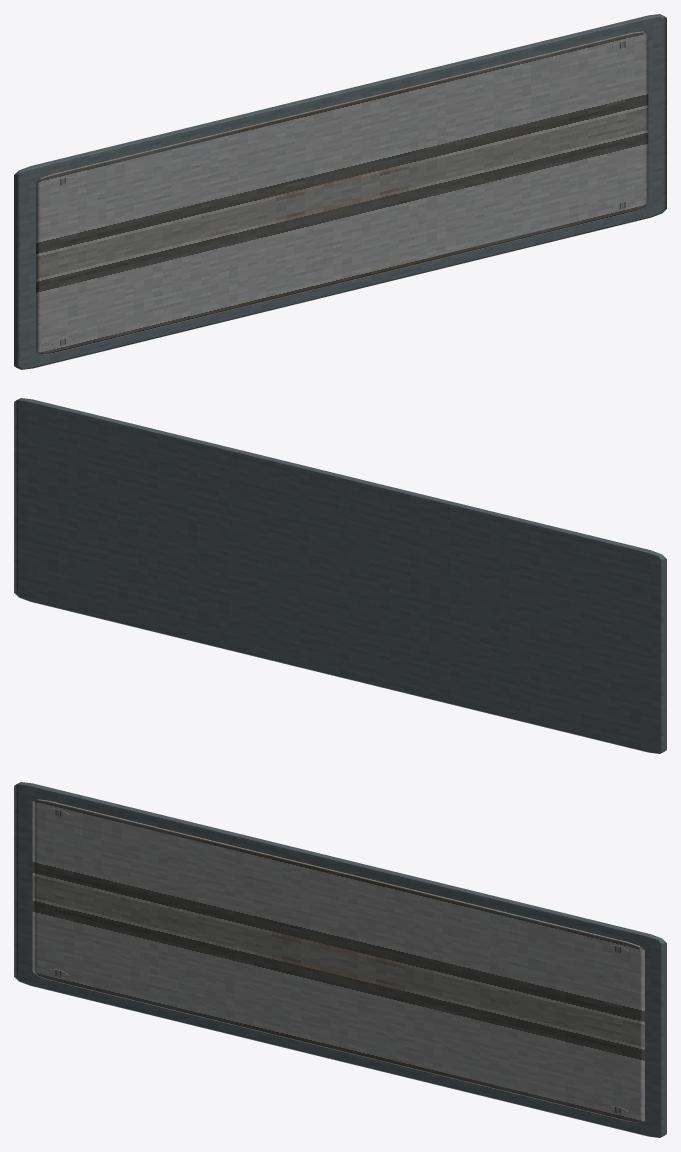
Rendered from kickplate.glb.
3 views of the same model, one above another, from view 1: azimuth 30°, elevation 25°; view 2: azimuth 150°, elevation 25°; view 3: azimuth 330°, elevation 25° (orthographic).
Visible parts, largest first — view 1: face, back; view 2: back; view 3: face, back.
Part boxes in pixels (box(x1,y1,x2,y2)): face: box(36, 31, 648, 354); back: box(14, 14, 666, 369); back: box(14, 398, 666, 753); face: box(32, 799, 644, 1122); back: box(14, 782, 666, 1137).
Size of the model in its own units: 0.78 by 0.23 by 0.0072.
2 materials, 2 textured.
